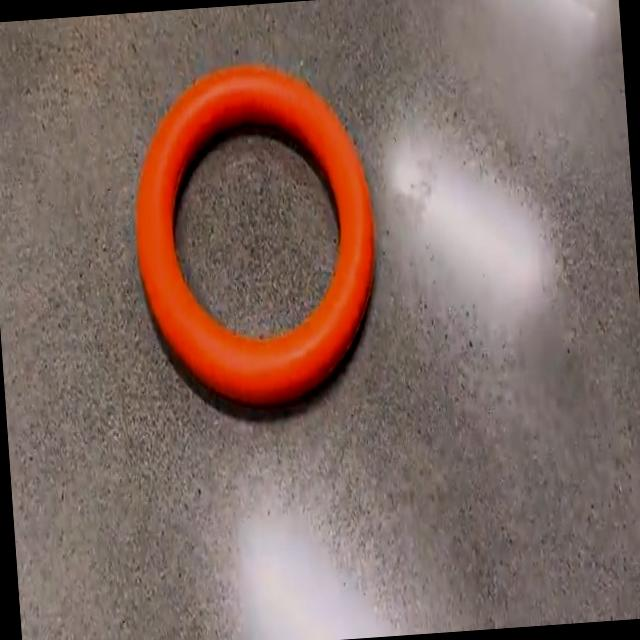note: (135, 64, 374, 403)
